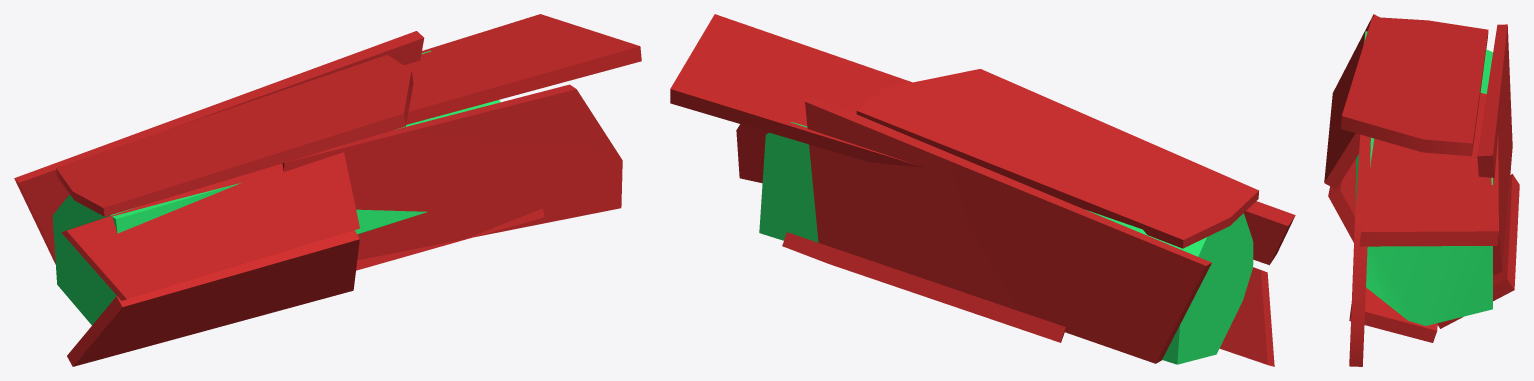
File: SM_branchpart_B.fbx
The picture shows the model from 3 angles, left to right: view 1: azimuth 30°, elevation 25°; view 2: azimuth 150°, elevation 25°; view 3: azimuth 270°, elevation 25°; orthographic projection. The views are drawn at different scales.
Parts seen in each view (by area): view 1: SM_branchpart_B; view 2: SM_branchpart_B; view 3: SM_branchpart_B.
Boxes of the visible parts, left/top/right/bottom form: SM_branchpart_B: left=14, top=14, right=641, bottom=366; SM_branchpart_B: left=670, top=14, right=1295, bottom=366; SM_branchpart_B: left=1324, top=14, right=1519, bottom=366.
Size of the model in its own units: 66.95 by 22.4 by 20.67.
